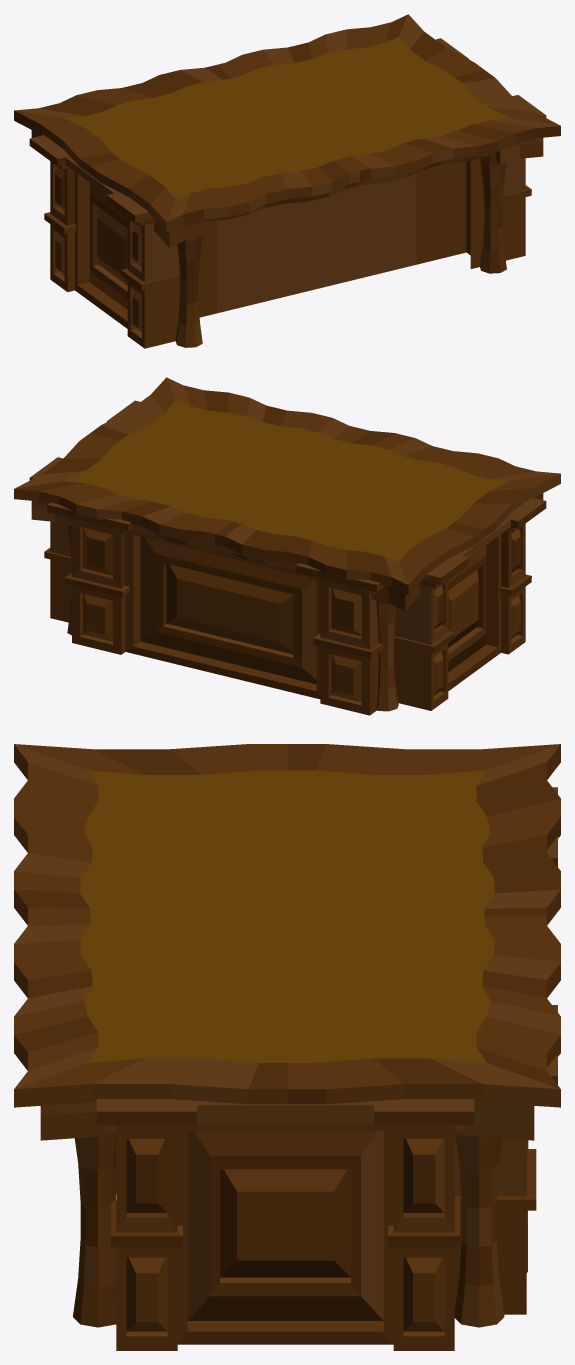
File: castle_town_interior_office_table.fbx
The picture shows the model from 3 angles, top to bottom: view 1: azimuth 30°, elevation 25°; view 2: azimuth 150°, elevation 25°; view 3: azimuth 270°, elevation 25°; orthographic projection. The views are drawn at different scales.
Visible parts, largest first — view 1: dining table.003; view 2: dining table.003; view 3: dining table.003.
Boxes of the visible parts, bbox=[...] form: dining table.003: bbox=[14, 14, 560, 348]; dining table.003: bbox=[14, 377, 560, 715]; dining table.003: bbox=[14, 744, 560, 1350].
Bounding box in the file's own units: 1428 × 771 × 2223.
